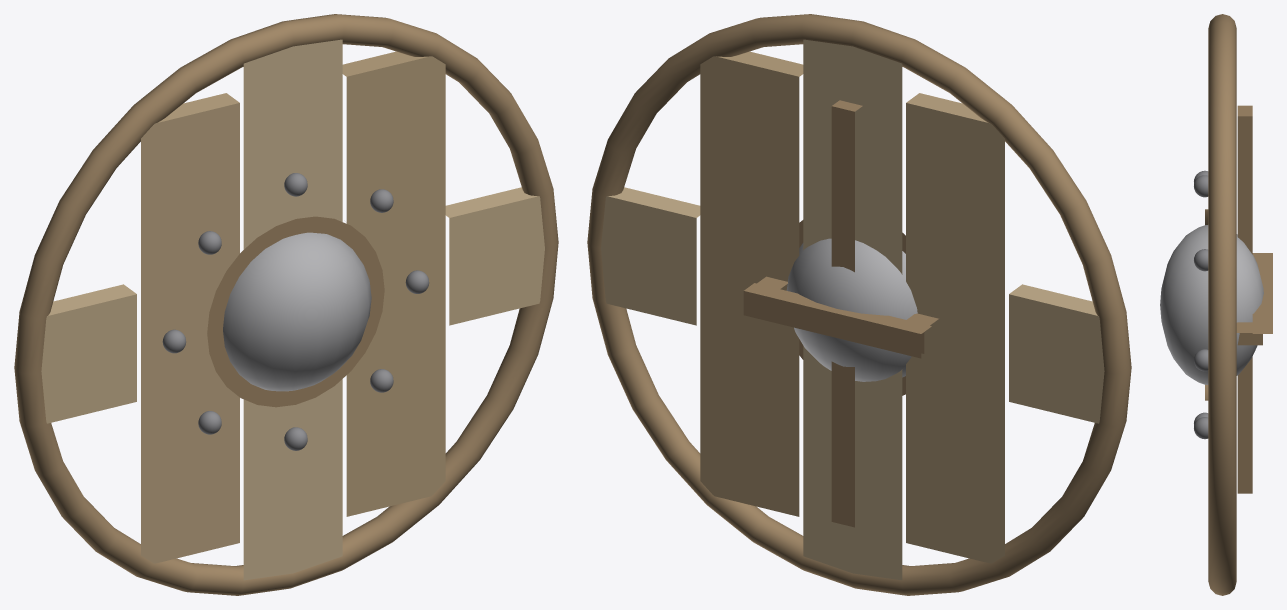
The model's file is wooden_shield.glb.
3 views of the same model, side by side, from view 1: azimuth 30°, elevation 25°; view 2: azimuth 150°, elevation 25°; view 3: azimuth 270°, elevation 25° (orthographic). The views are drawn at different scales.
Parts seen in each view (by area): view 1: WoodenShield; view 2: WoodenShield; view 3: WoodenShield.
Part boxes in pixels (x1,y1,x2,y2): WoodenShield: (14,14,558,595); WoodenShield: (587,14,1131,595); WoodenShield: (1160,14,1272,595).
Size of the model in its own units: 1.16 by 1.16 by 0.224.
